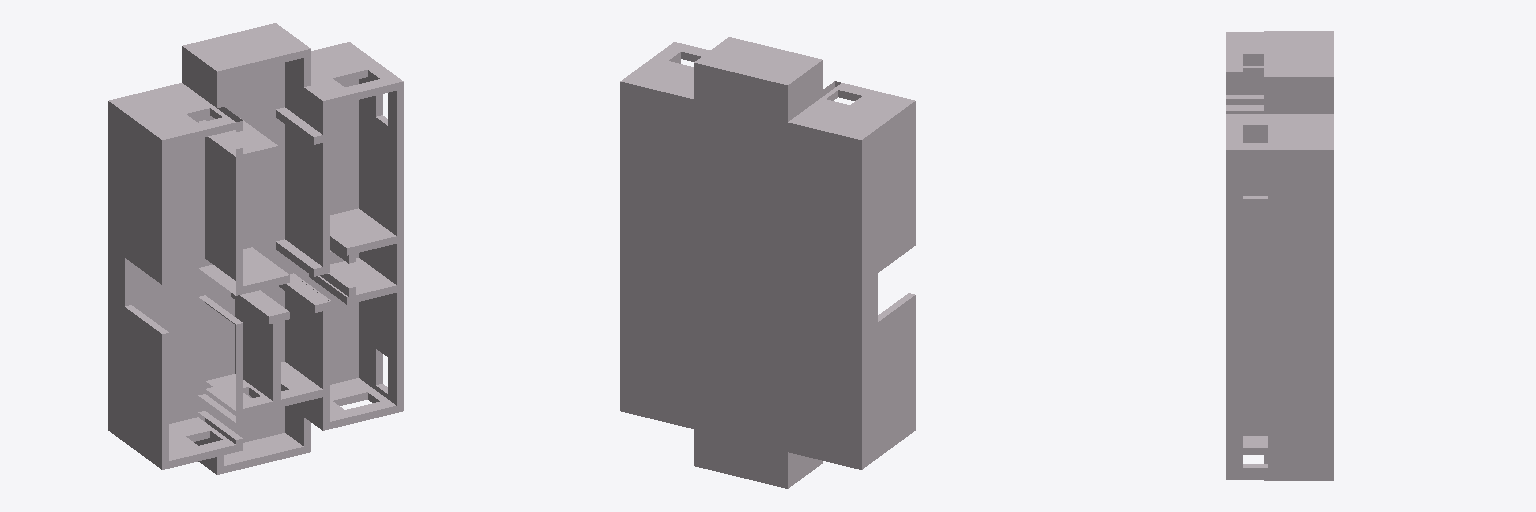
Rendered from apartment.obj.
3 views of the same model, side by side, from view 1: azimuth 30°, elevation 25°; view 2: azimuth 150°, elevation 25°; view 3: azimuth 270°, elevation 25° (orthographic).
Visible parts, largest first — view 1: apartment.001; view 2: apartment.001; view 3: apartment.001.
Boxes of the visible parts, x1,y1,x2,y2 form: apartment.001: [108, 23, 403, 474]; apartment.001: [620, 37, 915, 488]; apartment.001: [1226, 31, 1333, 480].
Size of the model in its own units: 10.28 by 16.43 by 4.